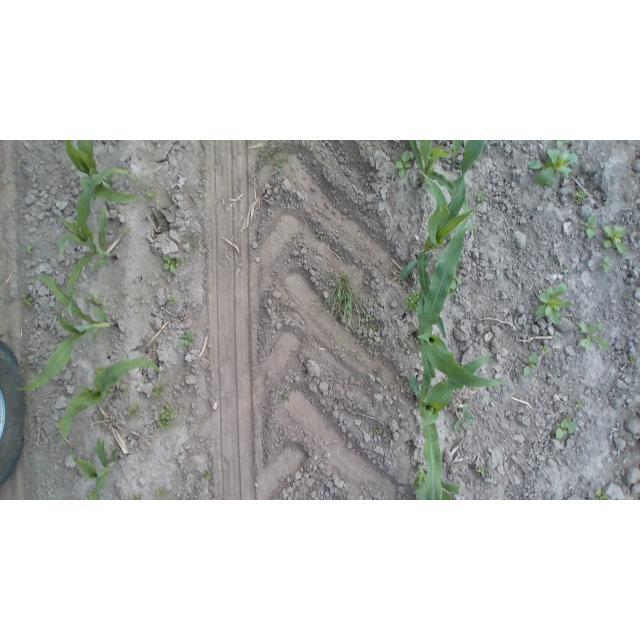Maize: (397, 140, 488, 340), (415, 228, 506, 398), (9, 268, 121, 392), (55, 166, 138, 322), (409, 351, 492, 500), (56, 355, 164, 448), (407, 141, 474, 226), (63, 140, 141, 204), (71, 440, 122, 500), (412, 460, 463, 500), (453, 141, 464, 158)
Weeds: (320, 267, 361, 325), (527, 148, 578, 189), (535, 282, 572, 326), (579, 318, 610, 352), (603, 222, 630, 254), (262, 141, 289, 170), (156, 402, 177, 431), (452, 405, 474, 432), (582, 212, 600, 240), (160, 255, 184, 276), (395, 148, 411, 179), (556, 419, 576, 440), (522, 350, 538, 376), (405, 289, 419, 315), (599, 255, 615, 276), (142, 184, 157, 205), (177, 332, 195, 349), (85, 293, 103, 307), (19, 292, 35, 307), (186, 233, 198, 252), (152, 380, 164, 398), (577, 187, 588, 206), (595, 487, 609, 500), (361, 313, 376, 325), (474, 465, 488, 477), (129, 407, 143, 419), (314, 232, 329, 243), (475, 190, 488, 202), (575, 396, 586, 408), (167, 292, 177, 304), (156, 486, 165, 499), (24, 244, 34, 255), (17, 156, 25, 169), (626, 353, 636, 363), (540, 344, 549, 355), (123, 386, 130, 399), (374, 366, 383, 376), (279, 394, 289, 403), (132, 492, 143, 500), (373, 427, 383, 435), (561, 412, 571, 420), (202, 469, 210, 479), (354, 373, 362, 382), (630, 493, 639, 500), (402, 338, 409, 347), (556, 141, 562, 148), (96, 367, 103, 373), (124, 227, 130, 234), (167, 191, 173, 198), (369, 324, 375, 330), (564, 140, 569, 144)
